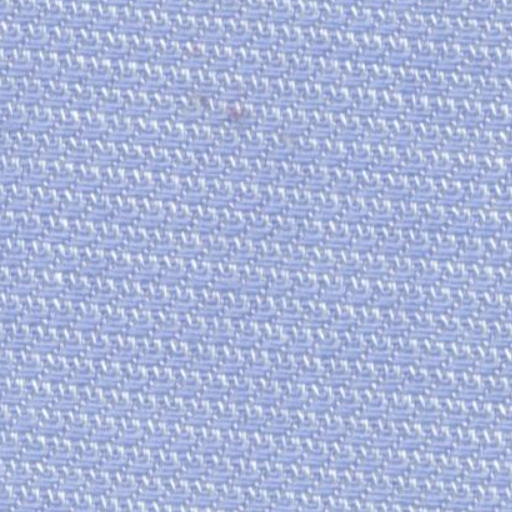WuZi: (209, 86, 266, 130)
